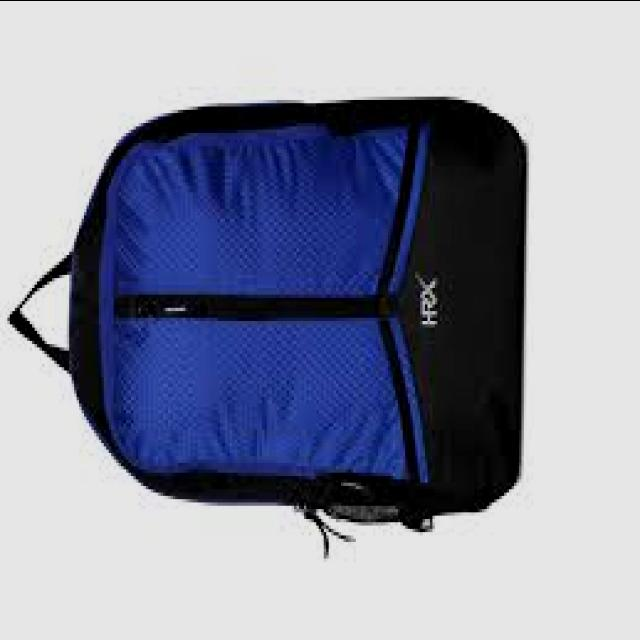backpack: (6, 97, 528, 559)
